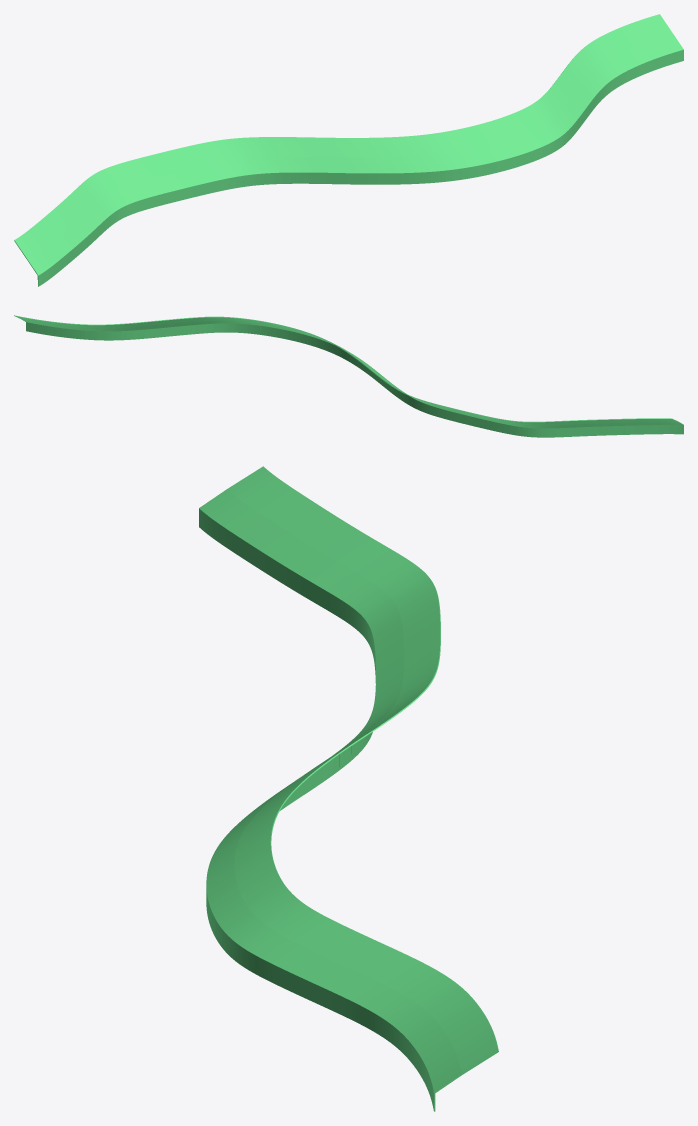
Rendered from fence.fbx.
3 views of the same model, one above another, from view 1: azimuth 30°, elevation 25°; view 2: azimuth 150°, elevation 25°; view 3: azimuth 270°, elevation 25° (orthographic). The views are drawn at different scales.
Visible parts, largest first — view 1: Plane.006; view 2: Plane.006; view 3: Plane.006.
Part boxes in pixels (x1,y1,x2,y2): Plane.006: (14, 14, 683, 286); Plane.006: (14, 315, 683, 437); Plane.006: (199, 466, 498, 1111).
Size of the model in its own units: 18610 by 837 by 4008.
